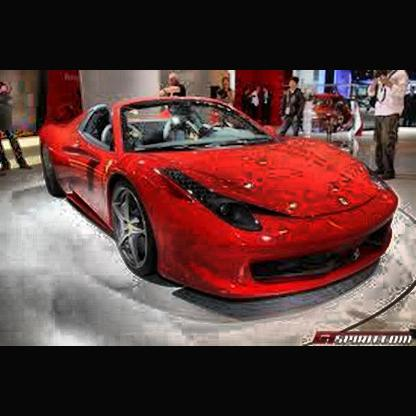Ferrari 458 Italia Convertible 2012: (32, 94, 406, 310)
